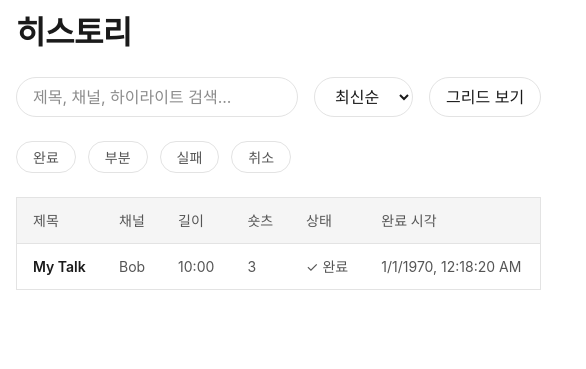
HistoryPage › toggles between list and grid views
The image size is (586, 369).
Expected: the text "My Talk" is shown, [16,244,103,290]
Click the button "그리드 보기" at (485, 97), box [429,77,541,117]
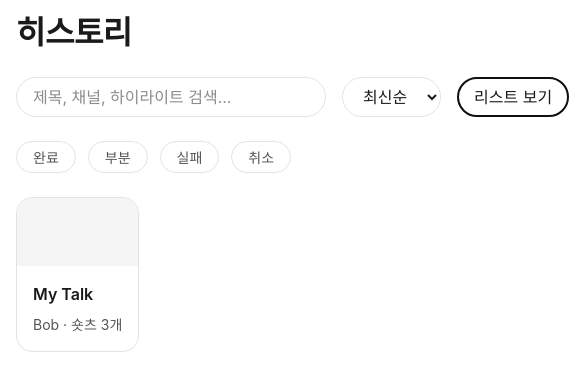
Result: the button "리스트 보기" is shown at [457,77,569,117]
